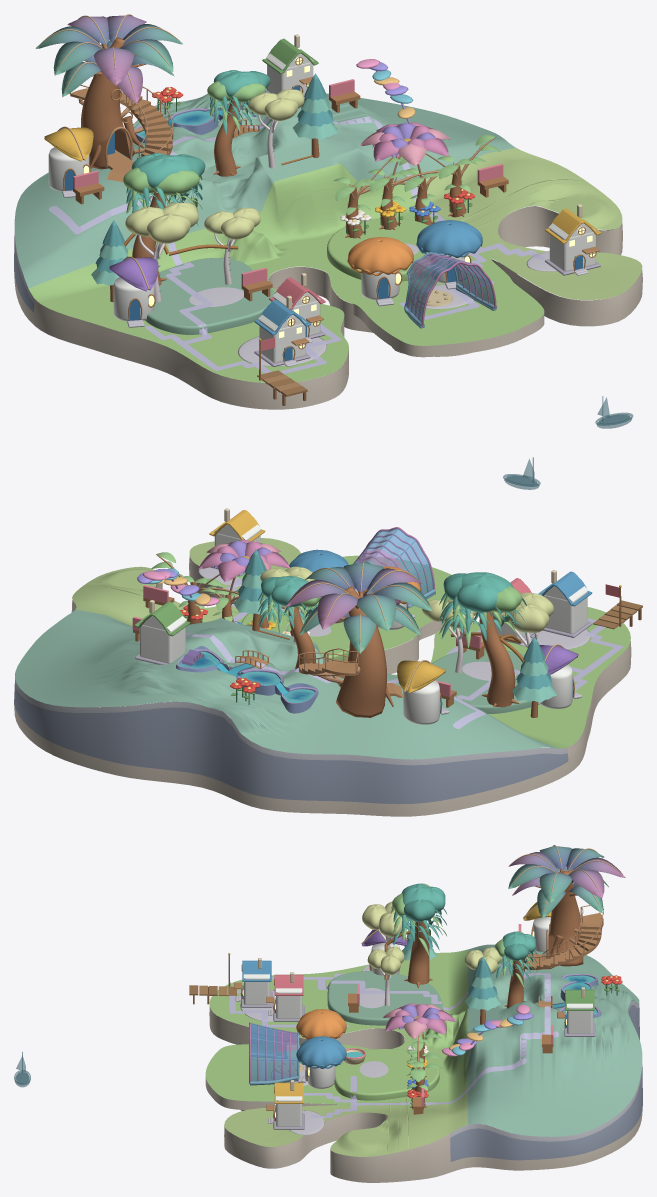
Rendered from study.glb.
3 views of the same model, one above another, from view 1: azimuth 30°, elevation 25°; view 2: azimuth 150°, elevation 25°; view 3: azimuth 270°, elevation 25° (orthographic). The views are drawn at different scales.
Parts seen in each view (by area): view 1: authored-evaluated-floor, Coast / continuous layered shore:0, grove / living violet and jade lamina, growing-reachable-paths, growing-objects, sculpted tree wood.002, authored-bank.051, Harbor__continuous_translucent_shell_hall_1, home / scalloped blue cap, home / scalloped blue cap.001, house / porcelain plaster.007, silver birch / pale gold leaves (+34 smaller); view 2: authored-evaluated-floor, Coast / continuous layered shore:1, Coast / continuous layered shore:0, grove / living violet and jade lamina, Coast / continuous layered shore:2, sculpted tree wood.002, growing-reachable-paths, Harbor__continuous_translucent_shell_hall_1, role-l14-2743, growing-objects, house / porcelain plaster.004, house / porcelain plaster (+27 smaller); view 3: authored-evaluated-floor, Coast / continuous layered shore:0, grove / living violet and jade lamina, Coast / continuous layered shore:1, growing-reachable-paths, Harbor__continuous_translucent_shell_hall_1, sculpted tree wood.002, growing-objects, home / scalloped blue cap.001, home / scalloped blue cap, growing-relation-C02, Coast / continuous layered shore:2 (+23 smaller).
Boxes of the visible parts, left/top/right/bottom form: authored-evaluated-floor: left=14, top=89, right=642, bottom=382; Coast / continuous layered shore:0: left=14, top=206, right=642, bottom=409; grove / living violet and jade lamina: left=35, top=15, right=182, bottom=103; growing-reachable-paths: left=49, top=116, right=544, bottom=373; growing-objects: left=73, top=79, right=506, bottom=306; sculpted tree wood.002: left=81, top=37, right=144, bottom=169; authored-bank.051: left=353, top=304, right=544, bottom=357; Harbor__continuous_translucent_shell_hall_1: left=406, top=257, right=493, bottom=322; home / scalloped blue cap: left=347, top=237, right=413, bottom=274; home / scalloped blue cap.001: left=416, top=220, right=482, bottom=257; house / porcelain plaster.007: left=548, top=223, right=596, bottom=271; silver birch / pale gold leaves: left=248, top=89, right=304, bottom=120; authored-evaluated-floor: left=15, top=538, right=630, bottom=759; Coast / continuous layered shore:1: left=14, top=609, right=568, bottom=804; Coast / continuous layered shore:0: left=14, top=555, right=631, bottom=816; grove / living violet and jade lamina: left=286, top=562, right=431, bottom=653; Coast / continuous layered shore:2: left=15, top=604, right=567, bottom=765; sculpted tree wood.002: left=336, top=586, right=393, bottom=717; growing-reachable-paths: left=185, top=579, right=623, bottom=728; Harbor__continuous_translucent_shell_hall_1: left=355, top=528, right=433, bottom=594; role-l14-2743: left=479, top=611, right=515, bottom=707; growing-objects: left=132, top=585, right=484, bottom=707; house / porcelain plaster.004: left=139, top=616, right=186, bottom=663; house / porcelain plaster: left=541, top=586, right=588, bottom=633; authored-evaluated-floor: left=205, top=944, right=642, bottom=1156; Coast / continuous layered shore:0: left=209, top=952, right=642, bottom=1182; grove / living violet and jade lamina: left=508, top=846, right=625, bottom=918; Coast / continuous layered shore:1: left=450, top=1000, right=642, bottom=1161; growing-reachable-paths: left=229, top=963, right=558, bottom=1118; Harbor__continuous_translucent_shell_hall_1: left=251, top=1023, right=297, bottom=1081; sculpted tree wood.002: left=548, top=870, right=583, bottom=966; growing-objects: left=275, top=924, right=622, bottom=1114; home / scalloped blue cap.001: left=296, top=1036, right=346, bottom=1068; home / scalloped blue cap: left=296, top=1009, right=346, bottom=1039; growing-relation-C02: left=441, top=1004, right=533, bottom=1056; Coast / continuous layered shore:2: left=450, top=951, right=642, bottom=1141.
Bounding box in the file's own units: 15.34 × 5.82 × 19.47.
